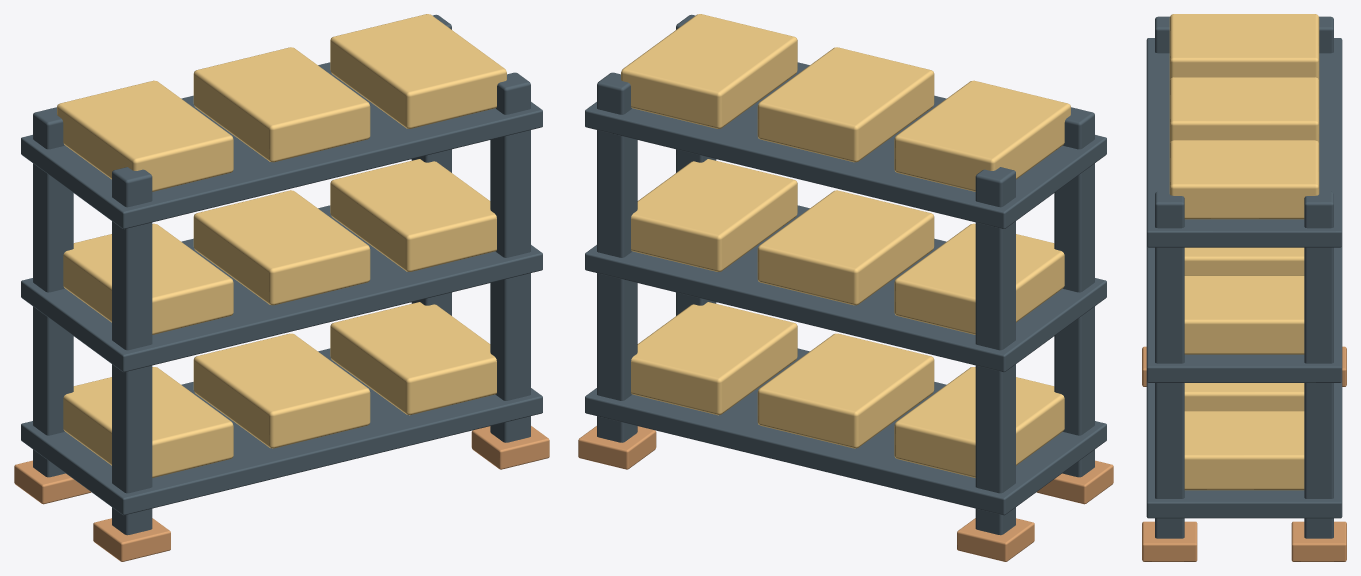
The model's file is dwarven-runeforge-dungeon-dwarven-runeforge-dungeon-in-082b56f1__28607.glb.
3 renders of one model, left to right at view 1: azimuth 30°, elevation 25°; view 2: azimuth 150°, elevation 25°; view 3: azimuth 270°, elevation 25°, orthographic. The views are drawn at different scales.
Visible parts, largest first — view 1: dwarven-runeforge-dungeon-ingot-rack; view 2: dwarven-runeforge-dungeon-ingot-rack; view 3: dwarven-runeforge-dungeon-ingot-rack.
Boxes of the visible parts, x1,y1,x2,y2 form: dwarven-runeforge-dungeon-ingot-rack: (14, 14, 549, 561); dwarven-runeforge-dungeon-ingot-rack: (578, 14, 1113, 561); dwarven-runeforge-dungeon-ingot-rack: (1142, 14, 1346, 561).
Size of the model in its own units: 2.04 by 1.75 by 0.8901.
